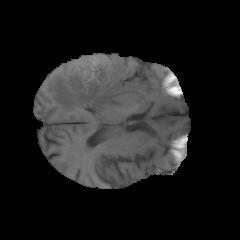glioma: (52, 53, 138, 112)
